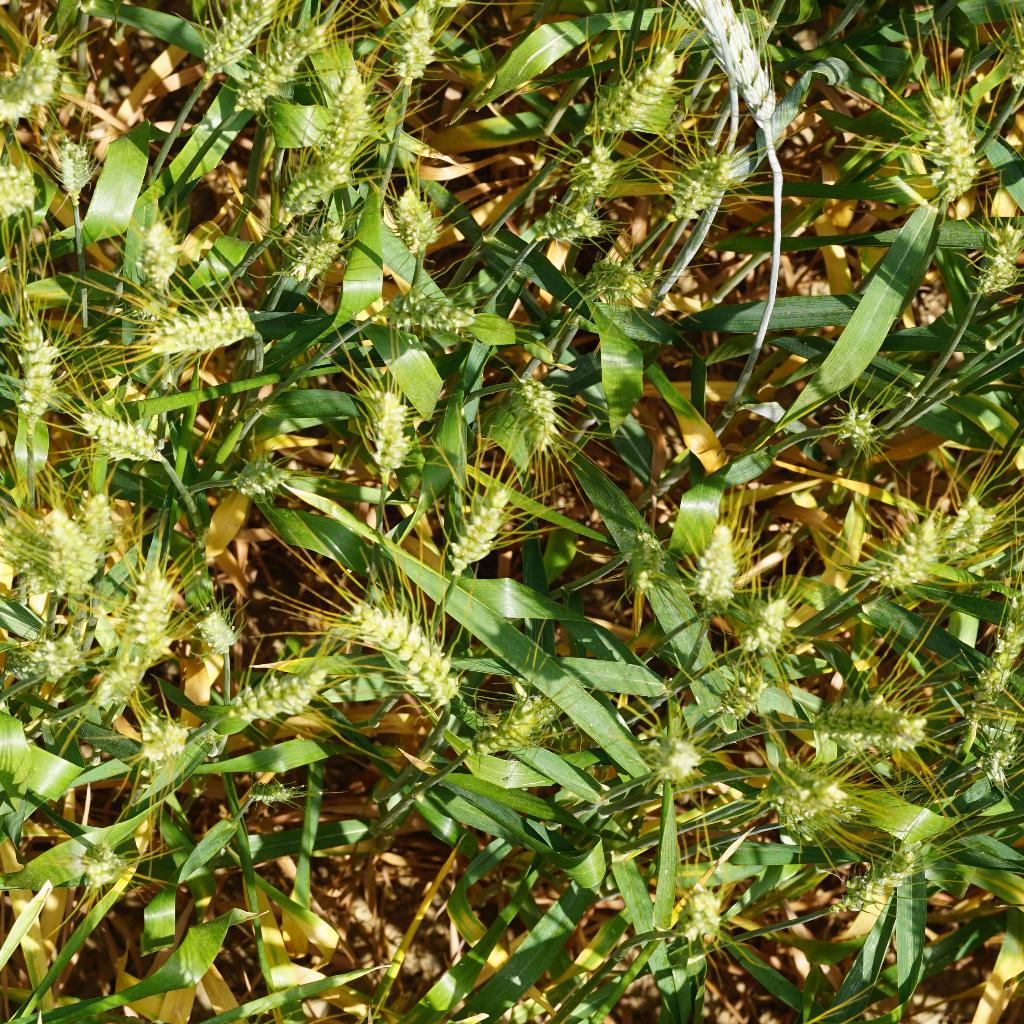0-0: (683, 0, 819, 151), (325, 591, 463, 699), (581, 39, 685, 145), (804, 684, 935, 768), (337, 366, 421, 481), (224, 21, 316, 123), (308, 56, 381, 177), (832, 823, 934, 909), (437, 475, 518, 583), (909, 82, 982, 194), (209, 666, 320, 739), (129, 294, 261, 355), (482, 366, 565, 462), (752, 746, 849, 828), (477, 690, 565, 778), (66, 396, 168, 470), (103, 553, 172, 662), (866, 515, 946, 609), (183, 0, 276, 77), (369, 1, 446, 93), (374, 281, 479, 347), (961, 200, 1023, 311), (0, 298, 56, 419), (265, 153, 355, 228), (507, 190, 601, 261), (278, 208, 358, 291), (690, 507, 750, 616), (570, 240, 656, 316), (966, 605, 1024, 714), (665, 139, 729, 236), (0, 44, 70, 127), (231, 430, 299, 511), (552, 141, 631, 210), (119, 701, 197, 770), (769, 788, 866, 843), (37, 506, 101, 585), (729, 593, 811, 654), (673, 875, 737, 953), (81, 649, 149, 716), (384, 190, 445, 264), (705, 656, 772, 721), (618, 526, 673, 603), (942, 492, 996, 570), (51, 120, 98, 209), (627, 727, 699, 785), (74, 829, 136, 895), (0, 633, 62, 694), (825, 393, 886, 452), (129, 212, 176, 286), (972, 715, 1020, 786), (193, 592, 243, 658), (38, 631, 90, 694), (76, 488, 122, 554), (0, 518, 51, 573), (0, 162, 43, 217), (245, 780, 302, 808)
